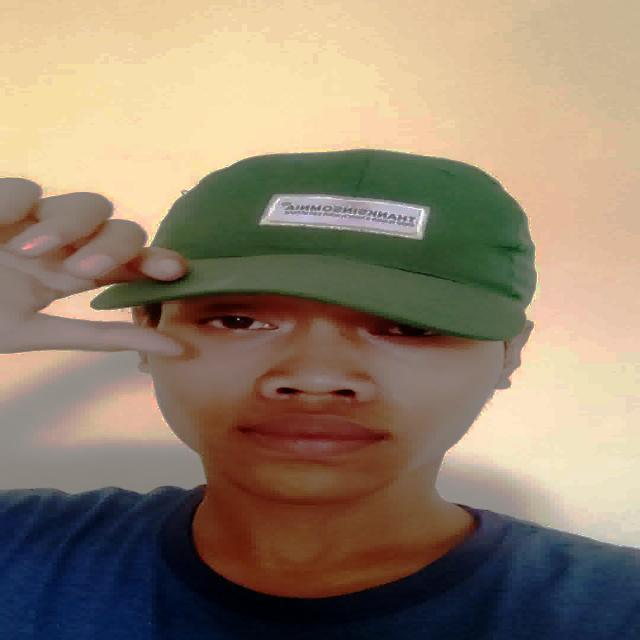TOPI: (93, 119, 567, 349)
